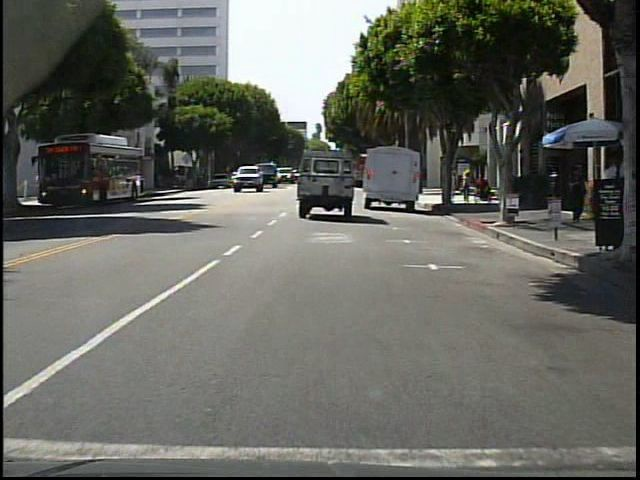person: (595, 149, 626, 250), (568, 168, 587, 224), (461, 169, 473, 205), (448, 165, 459, 204)
